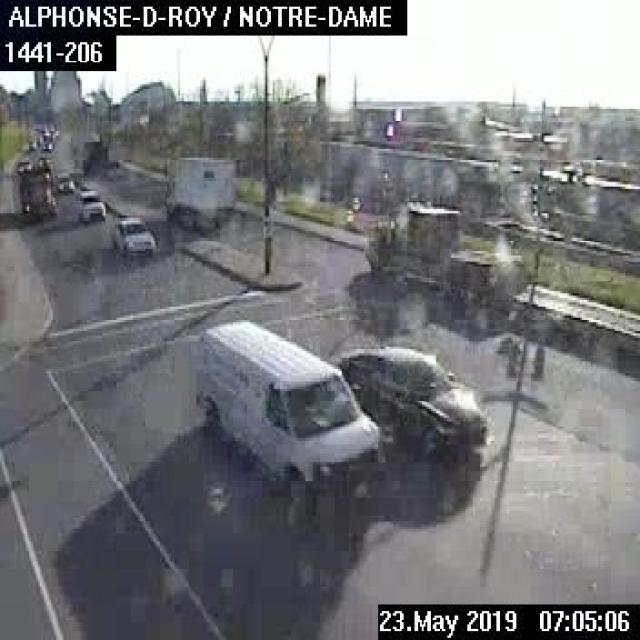vehicle: (362, 202, 638, 352), (195, 316, 384, 494), (334, 334, 498, 472), (158, 154, 233, 222), (14, 163, 56, 222), (112, 213, 152, 251), (75, 186, 107, 225), (53, 171, 75, 196)
